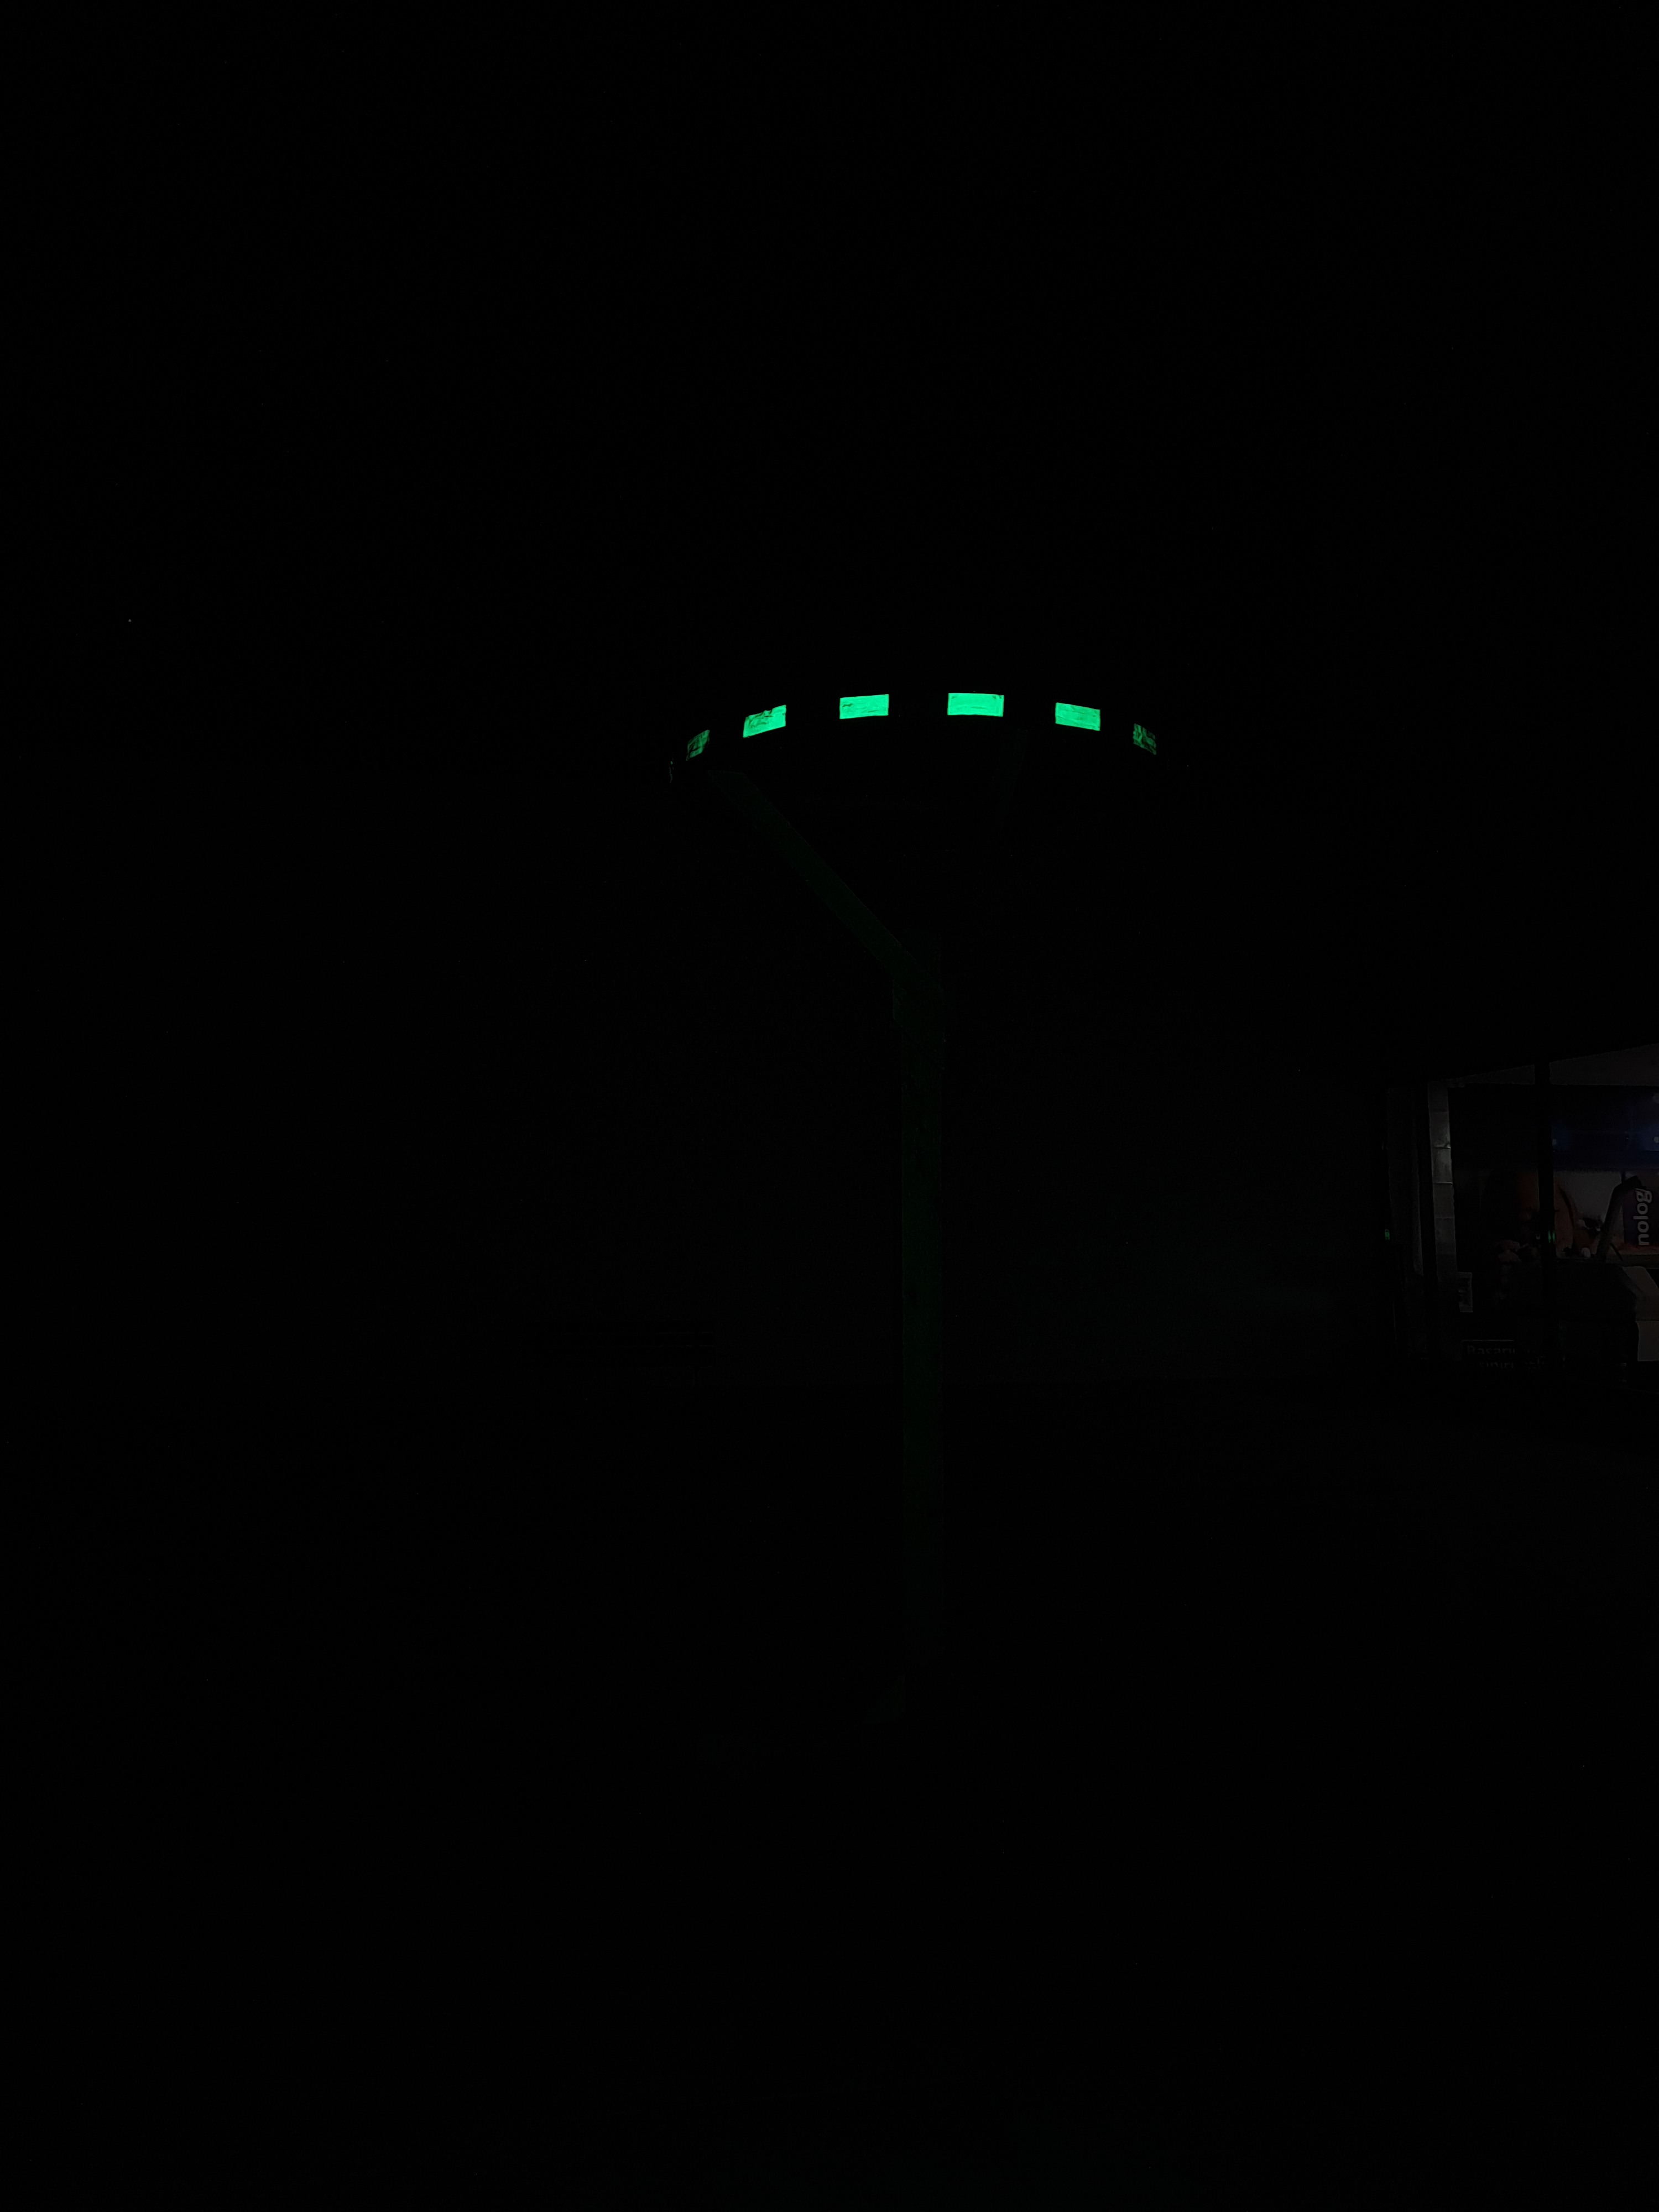hoop: (676, 688, 1169, 763)
